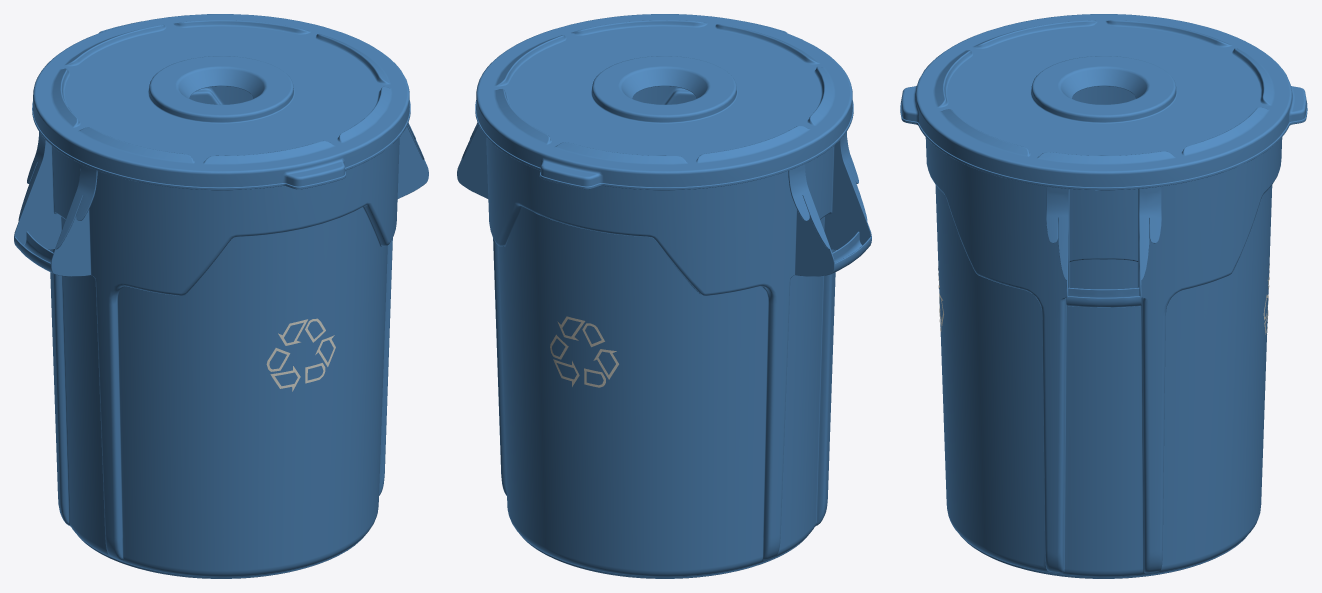
File: container_recycle_blue_b04.glb
3 views of the same model, side by side, from view 1: azimuth 30°, elevation 25°; view 2: azimuth 150°, elevation 25°; view 3: azimuth 270°, elevation 25° (orthographic).
Bounding box in the file's own units: 0.8166 × 0.8699 × 0.7478.
